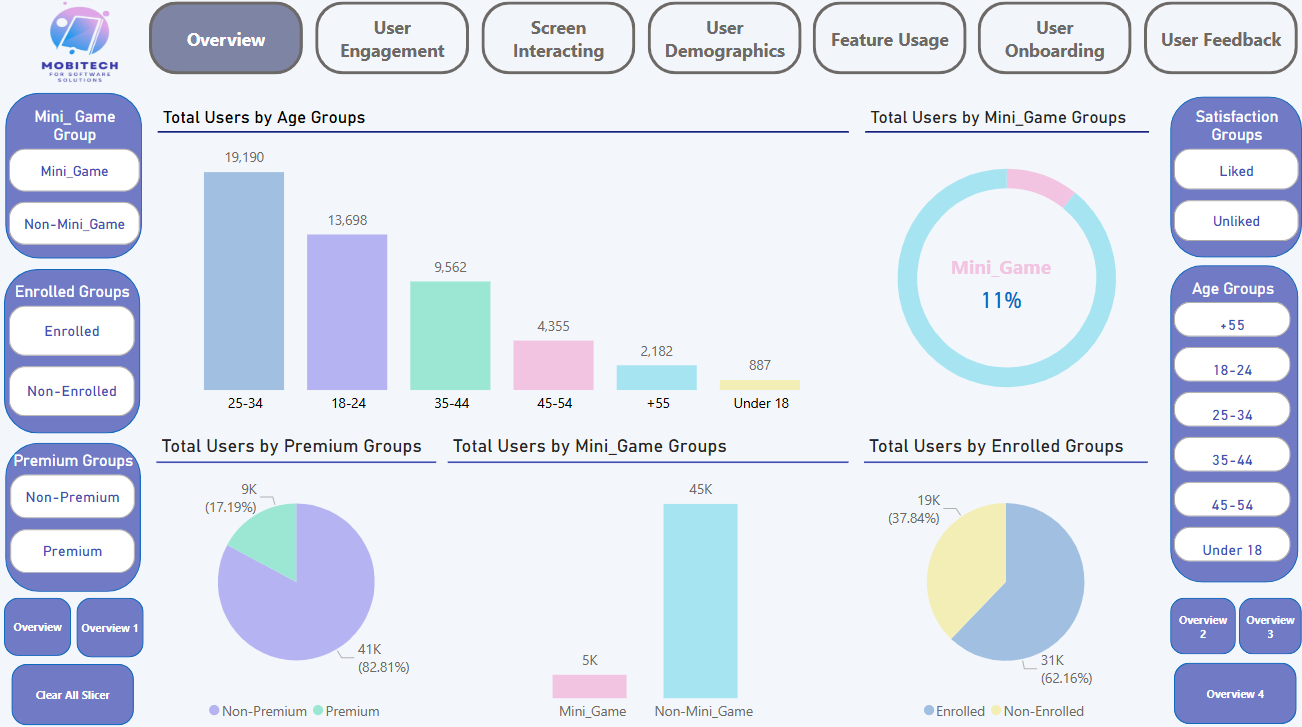

What the dashboard file says about the page in this screenshot:
{"tool":"powerbi","page":{"name":"Overview","canvas":[1280,720],"ordinal":3},"visuals":[{"type":"group","id":"g1","title":"Group 4","box":[4.4,96.9,138.6,162.2],"z":0,"group":"g7"},{"type":"shape","box":[6.1,96.9,133.8,162.2],"z":0,"group":"g1"},{"type":"group","id":"g2","title":"Group 3","box":[1144,100.7,132.8,157.6],"z":0,"group":"g8"},{"type":"shape","box":[1144.8,100.7,128.8,157.6],"z":0,"group":"g2"},{"type":"gauge","fields":{"Y":["Total.Satisfaction Rate"]},"box":[151.4,220.7,485.6,195.5],"z":0,"group":"g9"},{"type":"shape","box":[1145.7,265.6,125.2,310.3],"z":0,"group":"g6"},{"type":"group","id":"g3","title":"Group 2","box":[4.4,269.5,133.3,160.9],"z":0,"group":"g5"},{"type":"shape","box":[4.4,269.5,133.3,160.9],"z":0,"group":"g3"},{"type":"shape","box":[5.8,438.8,132.7,145.9],"z":0,"group":"g4"},{"type":"columnChart","fields":{"Category":["appdata10.Mini_Game Group","appdata10.Satisfaction Groups"],"Y":["Total.Total Users"]},"box":[450,454.6,392.5,265.4],"z":0},{"type":"advancedSlicerVisual","fields":{"Values":["appdata10.Satisfaction Groups"]},"box":[1144,111.7,132.8,135.9],"z":1000,"group":"g2"},{"type":"advancedSlicerVisual","title":"  Mini_ Game Group","fields":{"Values":["appdata10.Mini_Game Group"]},"box":[4.4,112.1,138.6,140.3],"z":1000,"group":"g1"},{"type":"advancedSlicerVisual","fields":{"Values":["appdata10.Age Groups"]},"box":[1144,278.8,125,285.8],"z":1000,"group":"g6"},{"type":"advancedSlicerVisual","fields":{"Values":["appdata10.Enrolled Groups"]},"box":[4.4,282.8,133.3,136.7],"z":1000,"group":"g3"},{"type":"card","fields":{"Values":["Total.Satisfaction Rate"]},"box":[312.7,326.3,154,72.8],"z":1000,"group":"g9"},{"type":"advancedSlicerVisual","fields":{"Values":["appdata10.Premium Groups"]},"box":[5.8,447.9,132.8,123.8],"z":1000,"group":"g4"},{"type":"pieChart","fields":{"Category":["appdata10.Enrolled Groups"],"Y":["Total.Total Users"]},"box":[846.2,456.1,291,264.1],"z":1000},{"type":"pieChart","fields":{"Category":["appdata10.Premium Groups"],"Y":["Total.Total Users"]},"box":[154.1,456.1,292.3,264.1],"z":2000},{"type":"group","id":"g4","title":"Group 1","box":[5.8,438.8,132.8,145.9],"z":3000},{"type":"group","id":"g5","title":"Group 1","box":[4.4,269.5,132.8,160.5],"z":4000},{"type":"group","id":"g6","title":"Group 1","box":[1144,265.6,128.4,310.8],"z":5000},{"type":"group","id":"g7","title":"Group 2","box":[4.4,96.9,138.6,162],"z":6000},{"type":"group","id":"g8","title":"Group 2","box":[1144,100.7,132.8,157.6],"z":7000},{"type":"shape","box":[75.9,591,65.7,58.4],"z":8000},{"type":"cardVisual","fields":{"Data":["Total.Total Users"]},"box":[144.3,84.4,249.5,130.8],"z":11000},{"type":"cardVisual","fields":{"Data":["Total.Total Screen_Viewed"]},"box":[393.8,84.4,250.7,130.8],"z":12000},{"type":"cardVisual","fields":{"Data":["Total.Total Screen_Interacted"]},"box":[644.4,84.4,249.5,130.8],"z":13000},{"type":"cardVisual","fields":{"Data":["Total.Total Users Premium Feature"]},"box":[892.7,84.4,249.5,130.8],"z":14000},{"type":"group","id":"g9","title":"Group 6","box":[151.4,220.7,485.6,195.5],"z":15000},{"type":"funnel","fields":{"Y":["Total.Total Users_First open","Total.Total Users_Enrolled"]},"box":[649.3,228.7,490.4,178.5],"z":16000},{"type":"actionButton","box":[634.1,7.9,150.6,71.3],"z":18000},{"type":"actionButton","box":[309.1,7.9,150.6,71.3],"z":19000},{"type":"actionButton","box":[471.6,7.9,150.6,71.3],"z":20000},{"type":"actionButton","box":[146.6,7.9,150.6,71.3],"z":21000},{"type":"actionButton","box":[796.5,7.9,150.6,71.3],"z":22000},{"type":"actionButton","box":[957.7,7.9,150.6,71.3],"z":23000},{"type":"actionButton","box":[1120.2,7.9,150.6,71.3],"z":24000},{"type":"image","box":[28.1,0,101.5,96.6],"z":25000},{"type":"shape","box":[11.7,655.2,119.7,59.8],"z":26000},{"type":"shape","box":[1145.5,591,64.2,55.4],"z":27000},{"type":"shape","box":[4.4,591,65.7,56.9],"z":28000},{"type":"shape","box":[1212.6,591,61.3,55.4],"z":31000},{"type":"shape","box":[1149.5,654.2,119.8,59.9],"z":32000}]}

Visuals, with their boxes in screenshot pixels (x1, y1, x2, y2), scaled from the page's 1280x720 canvas onto the 1302x727 screenshot:
"Group 4" group: rect(4, 98, 145, 262)
shape: rect(6, 98, 142, 262)
"Group 3" group: rect(1164, 102, 1299, 261)
shape: rect(1164, 102, 1295, 261)
gauge - Total.Satisfaction Rate: rect(154, 223, 648, 420)
shape: rect(1165, 268, 1293, 581)
"Group 2" group: rect(4, 272, 140, 435)
shape: rect(4, 272, 140, 435)
shape: rect(6, 443, 141, 590)
columnChart - appdata10.Mini_Game Group x appdata10.Satisfaction Groups: rect(458, 459, 857, 726)
advancedSlicerVisual - appdata10.Satisfaction Groups: rect(1164, 113, 1299, 250)
"  Mini_ Game Group" advancedSlicerVisual: rect(4, 113, 145, 255)
advancedSlicerVisual - appdata10.Age Groups: rect(1164, 282, 1291, 570)
advancedSlicerVisual - appdata10.Enrolled Groups: rect(4, 286, 140, 424)
card - Total.Satisfaction Rate: rect(318, 329, 475, 403)
advancedSlicerVisual - appdata10.Premium Groups: rect(6, 452, 141, 577)
pieChart - appdata10.Enrolled Groups x Total.Total Users: rect(861, 461, 1157, 726)
pieChart - appdata10.Premium Groups x Total.Total Users: rect(157, 461, 454, 726)
"Group 1" group: rect(6, 443, 141, 590)
"Group 1" group: rect(4, 272, 140, 434)
"Group 1" group: rect(1164, 268, 1294, 582)
"Group 2" group: rect(4, 98, 145, 261)
"Group 2" group: rect(1164, 102, 1299, 261)
shape: rect(77, 597, 144, 656)
cardVisual - Total.Total Users: rect(147, 85, 401, 217)
cardVisual - Total.Total Screen_Viewed: rect(401, 85, 656, 217)
cardVisual - Total.Total Screen_Interacted: rect(655, 85, 909, 217)
cardVisual - Total.Total Users Premium Feature: rect(908, 85, 1162, 217)
"Group 6" group: rect(154, 223, 648, 420)
funnel - Total.Total Users_First open x Total.Total Users_Enrolled: rect(660, 231, 1159, 411)
actionButton: rect(645, 8, 798, 80)
actionButton: rect(314, 8, 468, 80)
actionButton: rect(480, 8, 633, 80)
actionButton: rect(149, 8, 302, 80)
actionButton: rect(810, 8, 963, 80)
actionButton: rect(974, 8, 1127, 80)
actionButton: rect(1139, 8, 1293, 80)
image: rect(29, 0, 132, 98)
shape: rect(12, 662, 134, 722)
shape: rect(1165, 597, 1230, 653)
shape: rect(4, 597, 71, 654)
shape: rect(1233, 597, 1296, 653)
shape: rect(1169, 661, 1291, 721)
